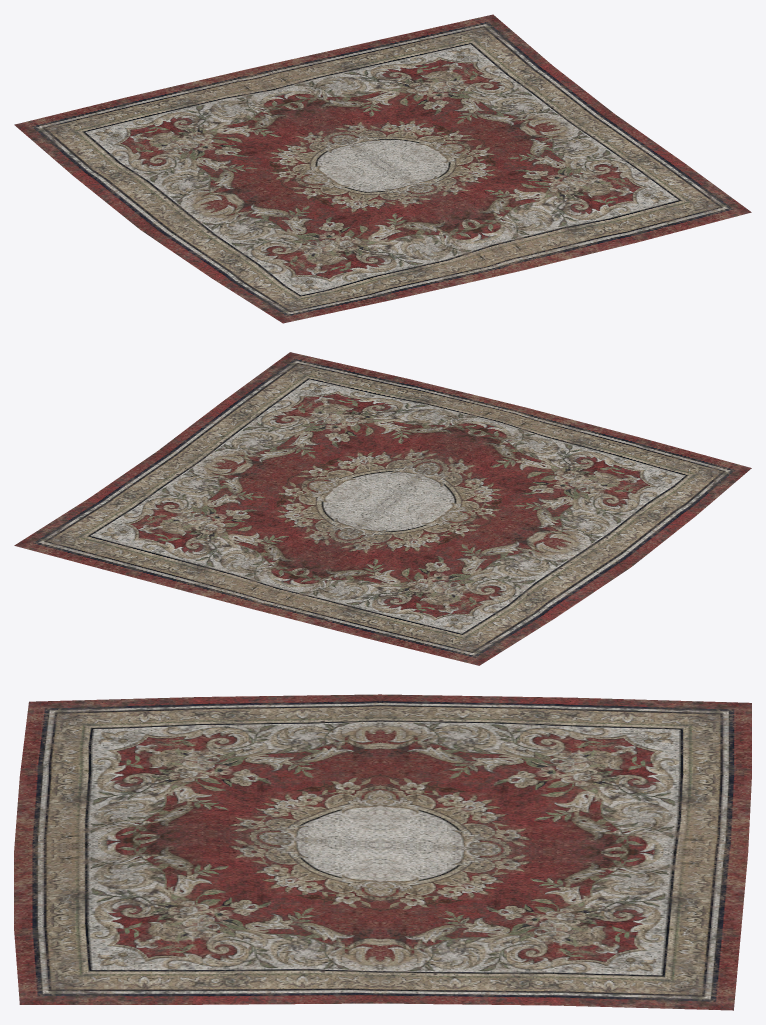
The model's file is Prop_Dt02.glb.
3 renders of one model, top to bottom at view 1: azimuth 30°, elevation 25°; view 2: azimuth 150°, elevation 25°; view 3: azimuth 270°, elevation 25°, orthographic. The views are drawn at different scales.
Visible parts, largest first — view 1: xiutz_dt_02; view 2: xiutz_dt_02; view 3: xiutz_dt_02.
Boxes of the visible parts, x1=… form: xiutz_dt_02: x1=14, y1=14, x2=751, y2=323; xiutz_dt_02: x1=14, y1=352, x2=751, y2=665; xiutz_dt_02: x1=14, y1=694, x2=751, y2=1010.
Size of the model in its own units: 3.37 by 0.1002 by 3.33.
Materials: 1 (1 with a texture image).
